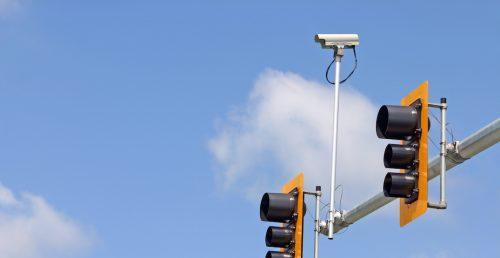Monitor: (299, 21, 373, 72)
